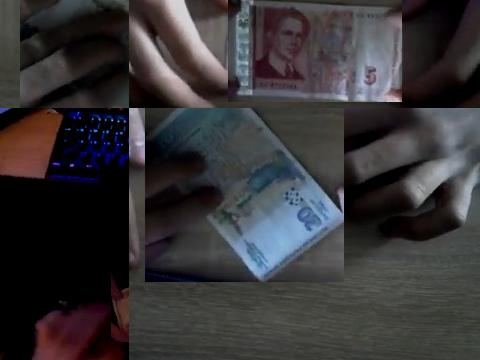20leva: (145, 108, 344, 282)
5leva: (228, 0, 402, 102)
